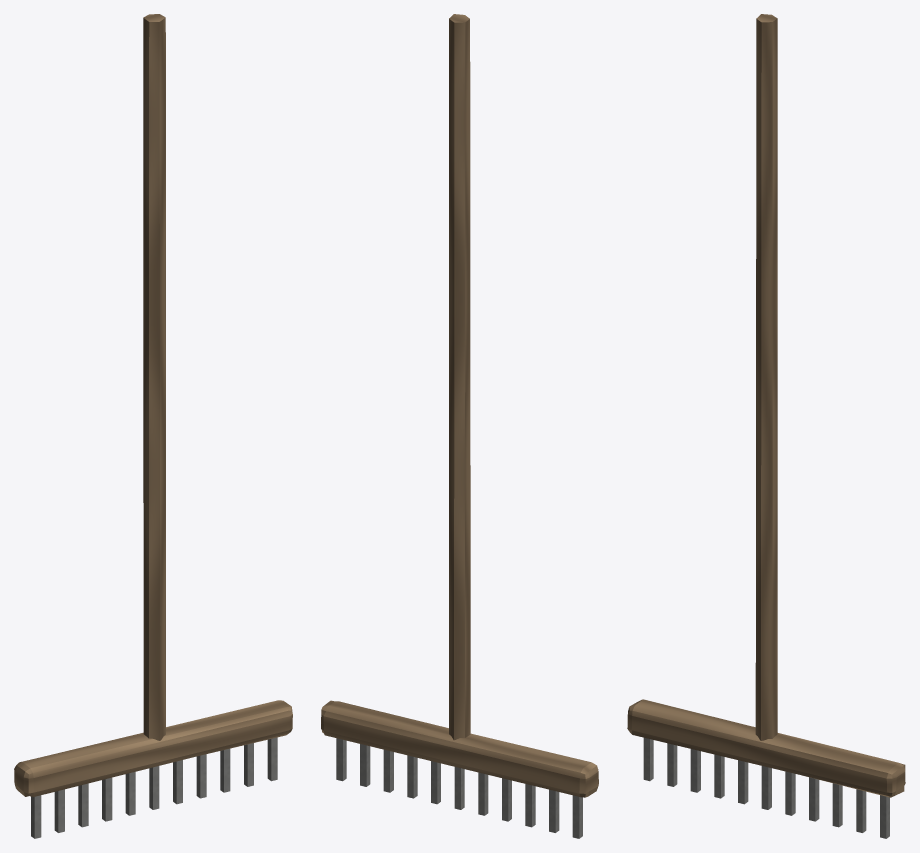
The model's file is garden_rake.glb.
3 views of the same model, side by side, from view 1: azimuth 30°, elevation 25°; view 2: azimuth 150°, elevation 25°; view 3: azimuth 330°, elevation 25° (orthographic).
Visible parts, largest first — view 1: GardenRake; view 2: GardenRake; view 3: GardenRake.
Part boxes in pixels (box(x1,y1,x2,y2)): GardenRake: box(14, 14, 292, 838); GardenRake: box(321, 14, 598, 838); GardenRake: box(627, 14, 905, 838).
Size of the model in its own units: 0.5012 by 1.41 by 0.0523.
2 materials, 2 textured.
